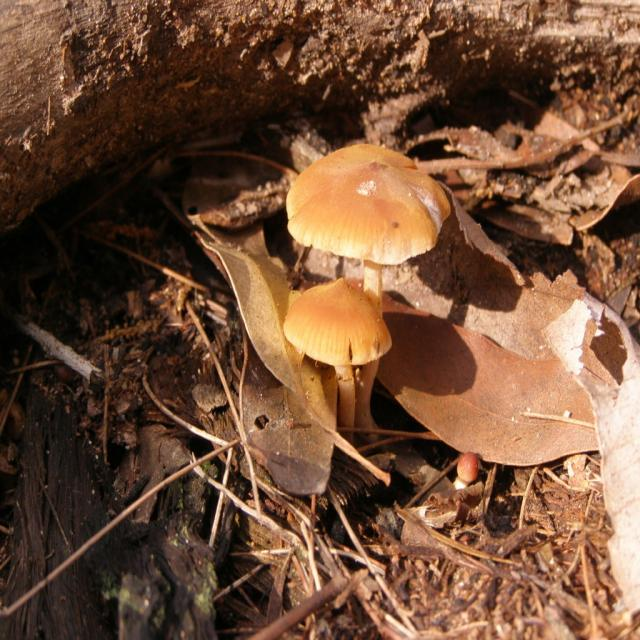Mushroom: (284, 141, 452, 440), (282, 276, 393, 440), (453, 450, 478, 489)
